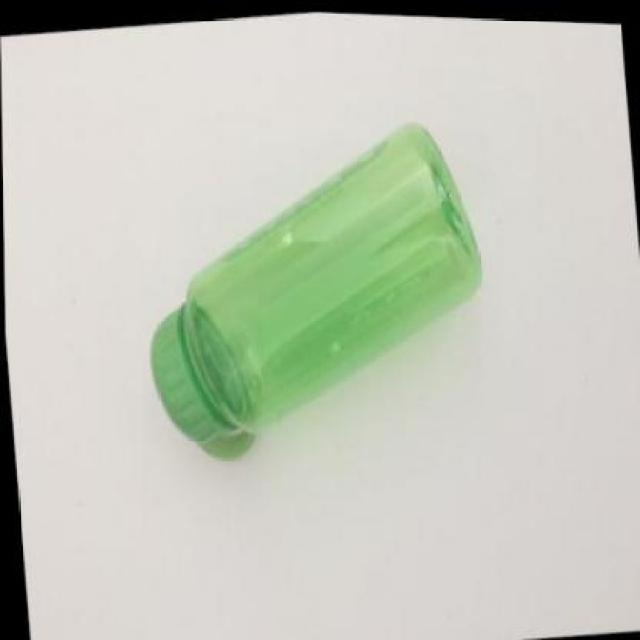Plastic: (151, 124, 480, 461)
